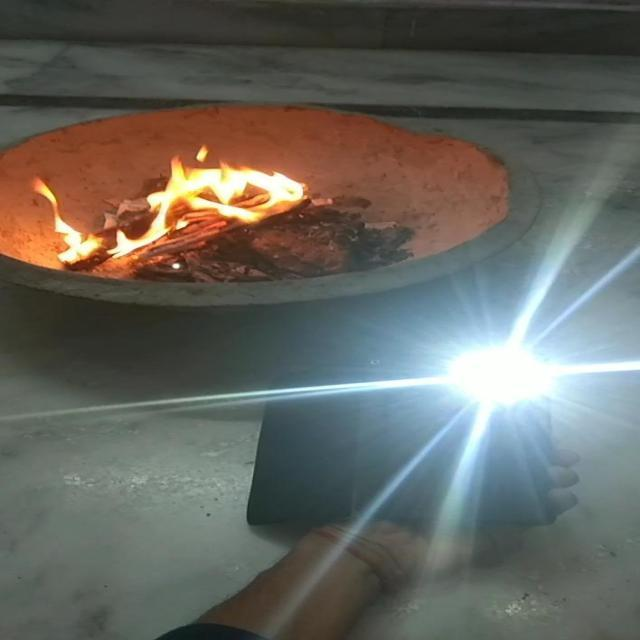smoke: (106, 144, 312, 258), (22, 174, 101, 264)
